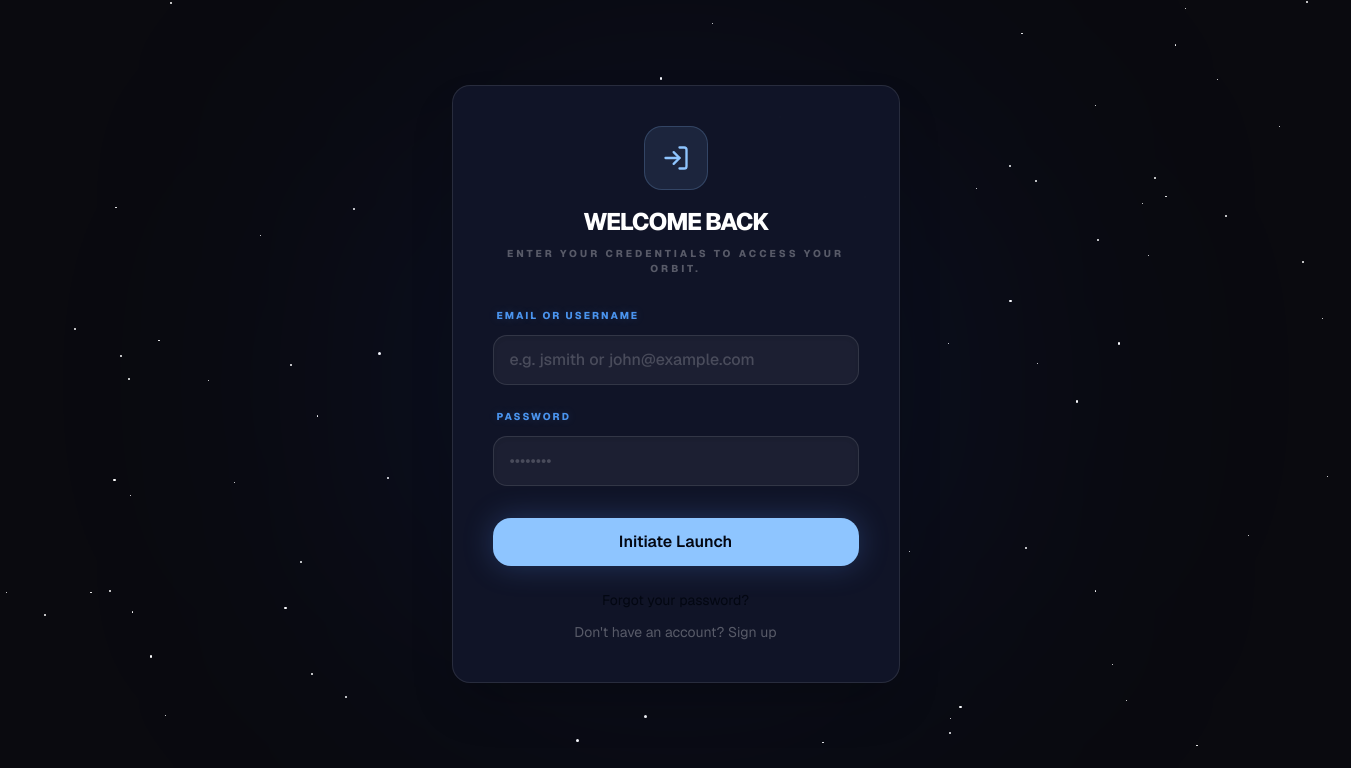
it: LoginPage › shows session error when session user id is missing after sign-in
Type "deeti" into the field with placeholder "e.g. jsmith or john@example.com" at (676, 360), box [492,335,858,385]
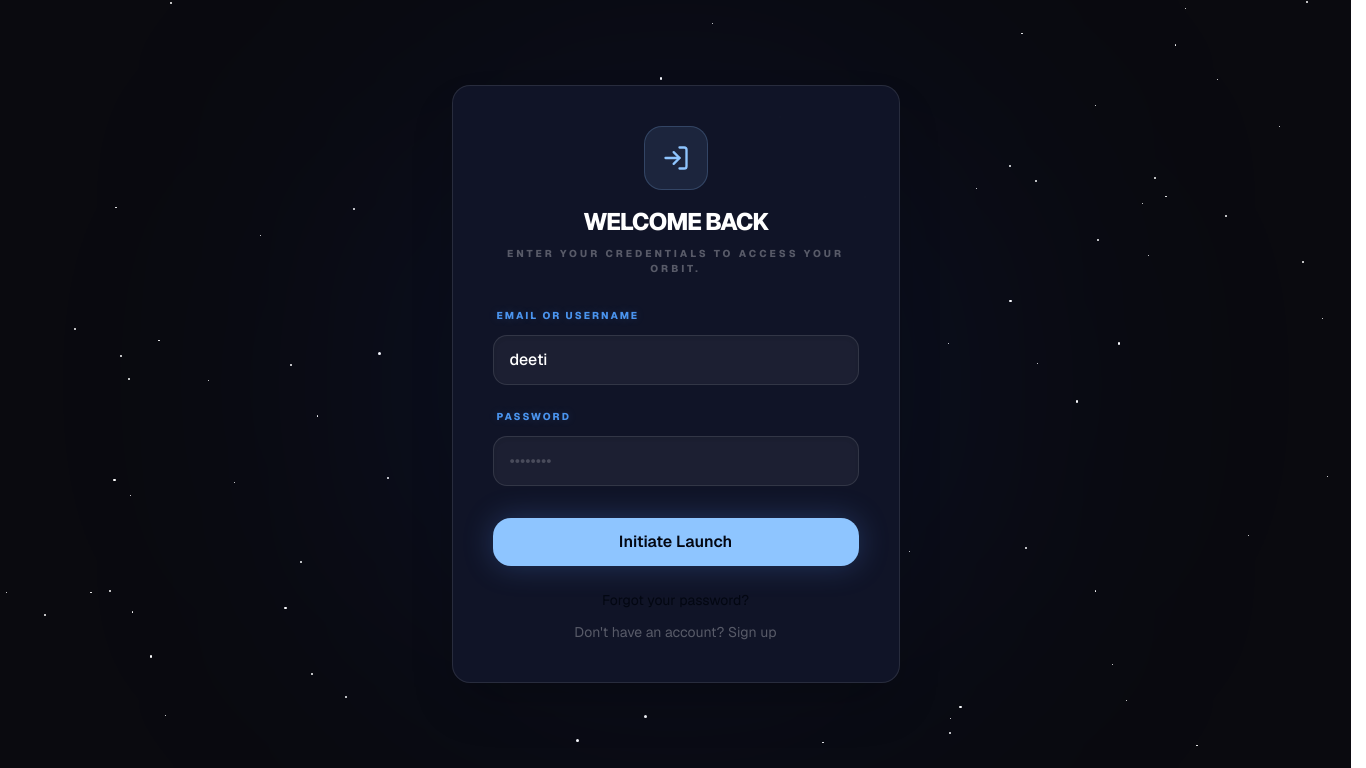
Type "secret123" into the password field with placeholder "••••••••" at (676, 461), box [492,436,858,486]
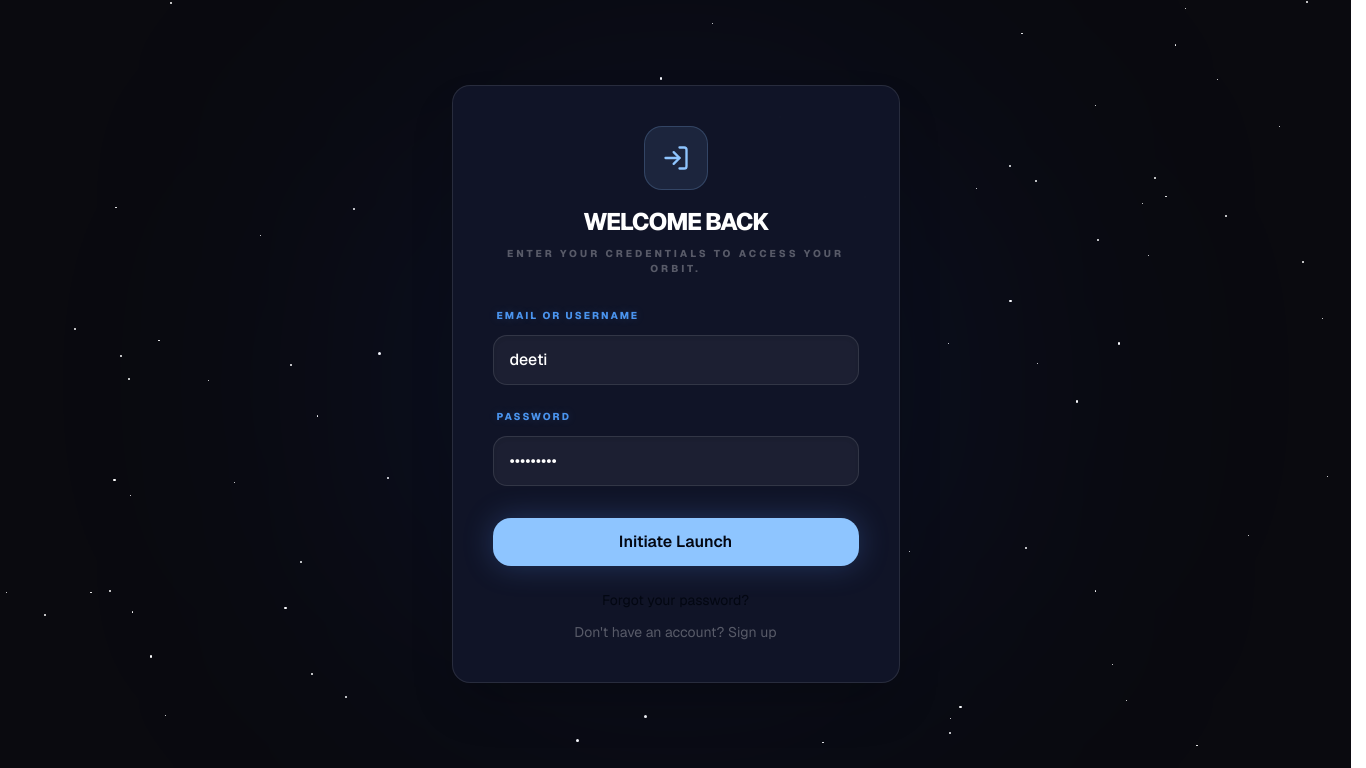
Click the button "Initiate Launch" at (676, 542), box [492,518,858,566]
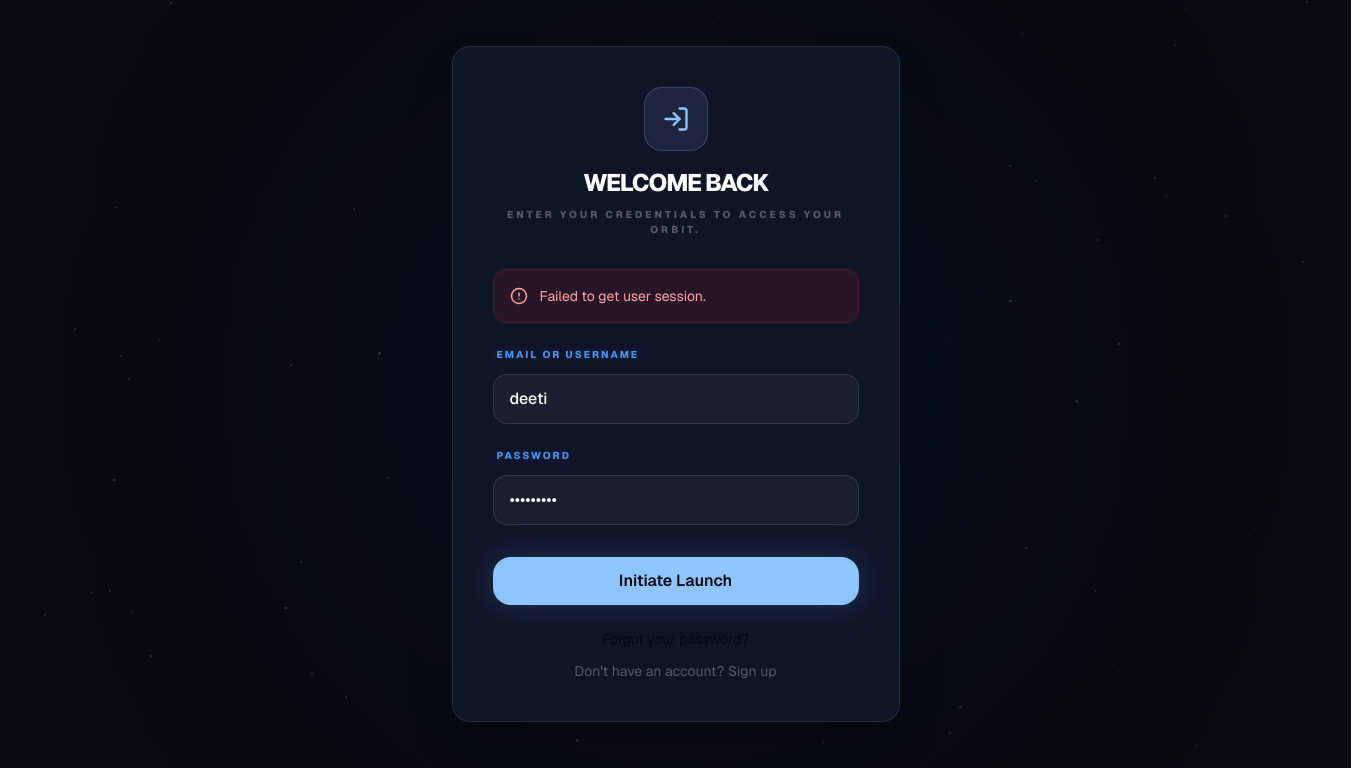
Expected: the button reads "Initiate Launch", [492,557,858,605]
Now the text "Failed to get user session." is shown, box [540,286,706,306]
